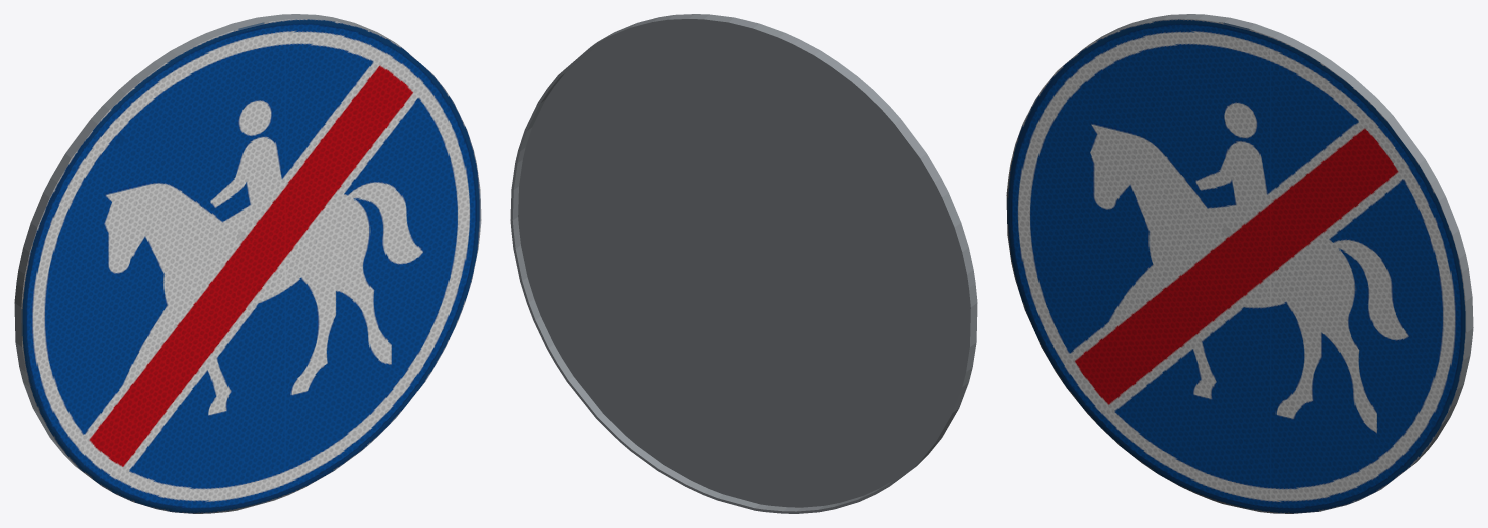
3 views of the same model, side by side, from view 1: azimuth 30°, elevation 25°; view 2: azimuth 150°, elevation 25°; view 3: azimuth 330°, elevation 25° (orthographic).
Visible parts, largest first — view 1: cat_e9cf821b5d7e1dcb; view 2: cat_e9cf821b5d7e1dcb; view 3: cat_e9cf821b5d7e1dcb.
Part boxes in pixels (x1,y1,x2,y2): cat_e9cf821b5d7e1dcb: (14,14,481,513); cat_e9cf821b5d7e1dcb: (510,14,977,513); cat_e9cf821b5d7e1dcb: (1006,14,1473,513).
Size of the model in its own units: 0.6 by 0.015 by 0.6.
2 materials, 1 textured.
